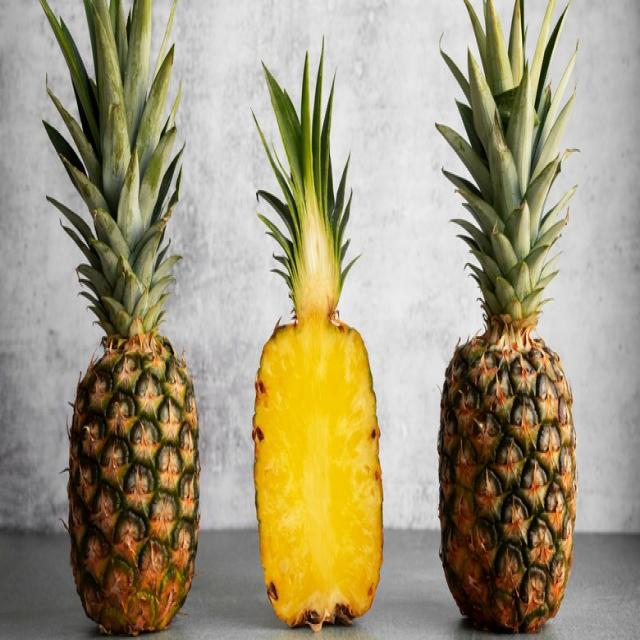organic: (439, 0, 577, 640), (67, 10, 202, 628), (260, 78, 381, 636)
